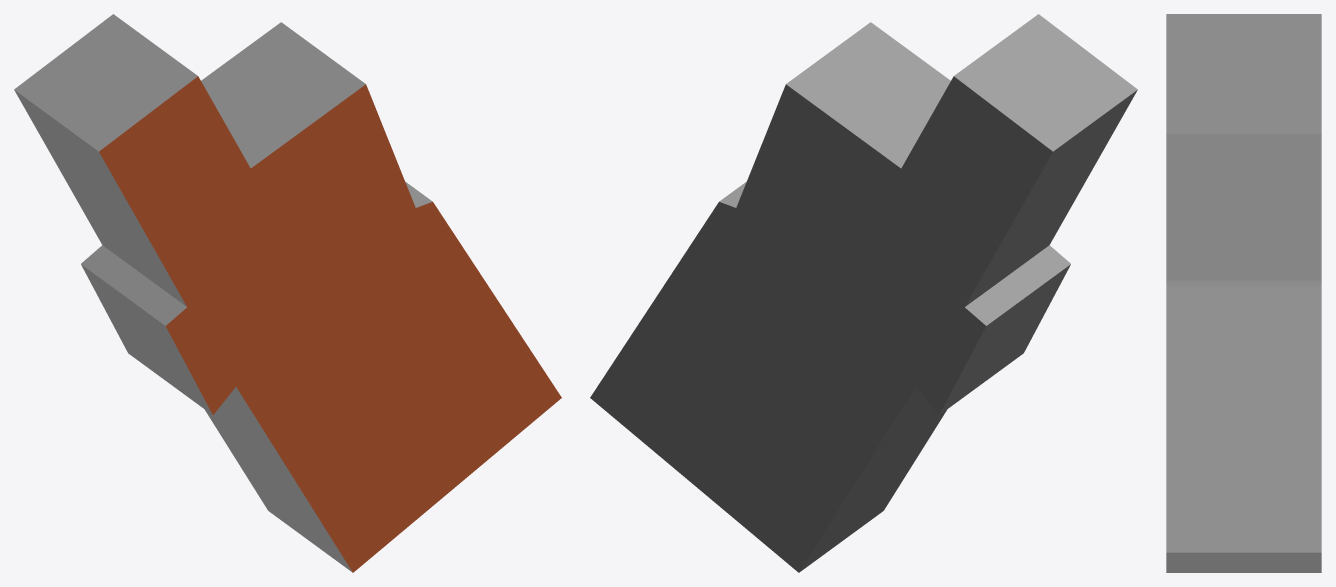
File: construction_2701_assumed_A_Casa_h6m.obj
The picture shows the model from 3 angles, left to right: view 1: azimuth 30°, elevation 25°; view 2: azimuth 150°, elevation 25°; view 3: azimuth 270°, elevation 25°; orthographic projection. The views are drawn at different scales.
Visible parts, largest first — view 1: construction_2701_assumed_A_Casa; view 2: construction_2701_assumed_A_Casa; view 3: construction_2701_assumed_A_Casa.
Part boxes in pixels (x1,y1,x2,y2): construction_2701_assumed_A_Casa: (14,14,561,572); construction_2701_assumed_A_Casa: (590,14,1137,572); construction_2701_assumed_A_Casa: (1166,14,1321,572).
Size of the model in its own units: 18.9 by 20.85 by 6.
